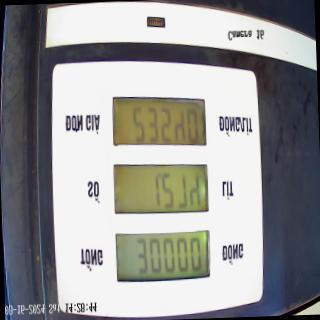screen: (108, 92, 215, 286)
